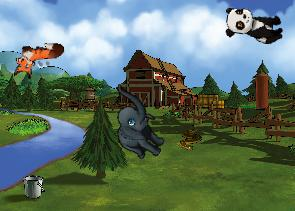elephant: (92, 83, 180, 165)
fox: (11, 41, 65, 79)
panda: (222, 5, 286, 45)
